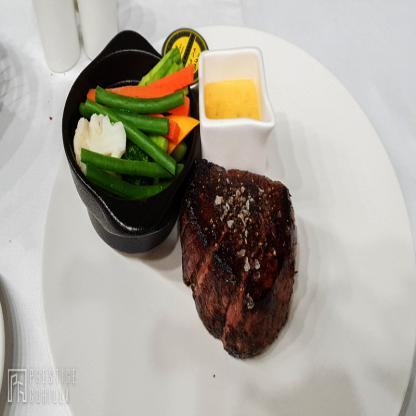Carne: (188, 144, 296, 352)
